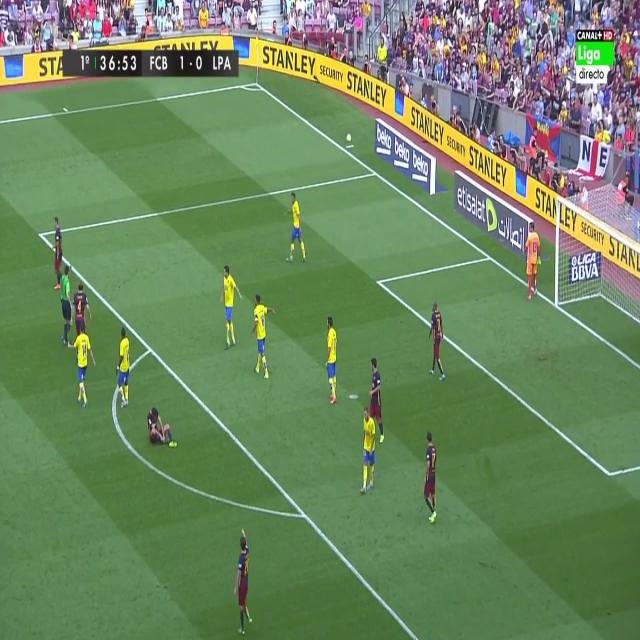Ball: (343, 131, 355, 144)
Goalkeeper: (522, 220, 542, 302)
Player: (67, 321, 97, 411), (218, 262, 245, 355), (250, 291, 276, 381), (234, 523, 254, 635), (284, 190, 310, 268), (427, 297, 448, 385), (421, 427, 439, 527), (367, 351, 386, 445), (358, 406, 377, 499), (324, 313, 342, 408), (115, 325, 134, 412), (146, 403, 179, 450), (73, 275, 93, 335), (52, 213, 64, 294)
Referee: (59, 261, 73, 348)
